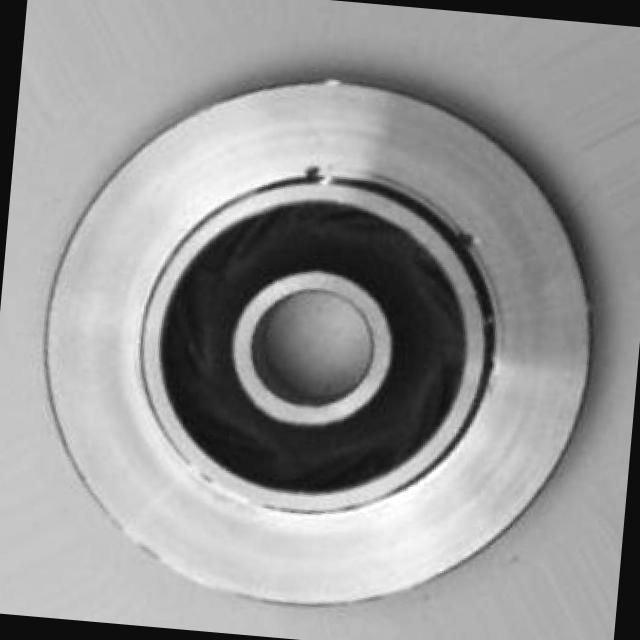Defect: (292, 155, 338, 192)
